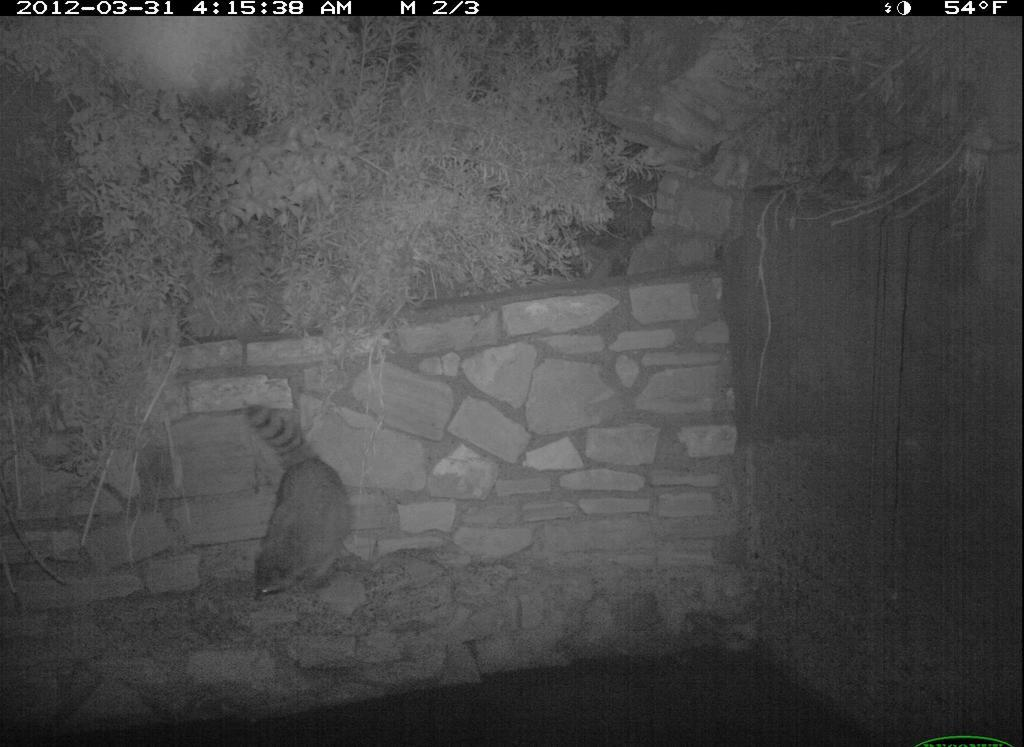raccoon: (232, 395, 356, 621)
